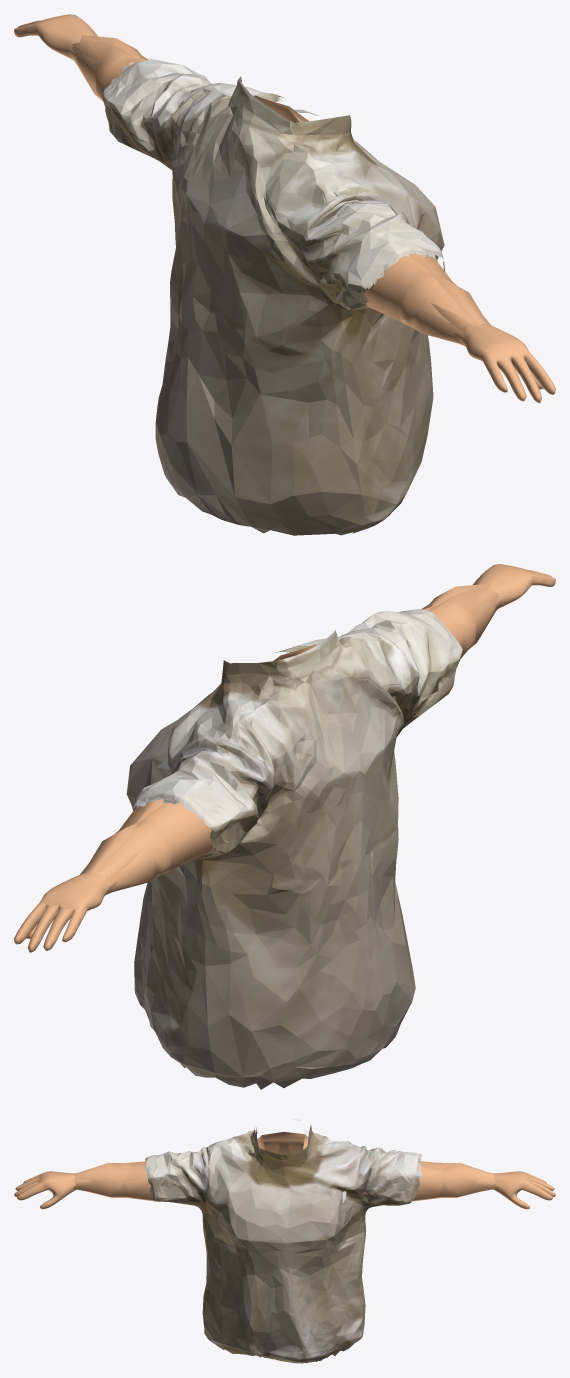
Rendered from &&whiteshirt.glb.
3 renders of one model, top to bottom at view 1: azimuth 30°, elevation 25°; view 2: azimuth 150°, elevation 25°; view 3: azimuth 270°, elevation 25°, orthographic. The views are drawn at different scales.
Visible parts, largest first — view 1: 6.Torso, 2.Torso, 5.Torso, 1.Torso, 3.Torso; view 2: 6.Torso, 2.Torso, 5.Torso, 1.Torso, 3.Torso; view 3: 6.Torso, 5.Torso, 2.Torso, 3.Torso, 1.Torso, 4.Torso.
Boxes of the visible parts, <box> form: 6.Torso: <box>14,14,547,535</box>; 2.Torso: <box>16,17,548,400</box>; 5.Torso: <box>71,41,490,533</box>; 1.Torso: <box>16,18,555,403</box>; 3.Torso: <box>43,17,555,399</box>; 6.Torso: <box>14,567,553,1089</box>; 2.Torso: <box>21,566,554,950</box>; 5.Torso: <box>80,589,499,901</box>; 1.Torso: <box>22,564,555,950</box>; 3.Torso: <box>52,564,555,897</box>; 6.Torso: <box>21,1128,555,1363</box>; 5.Torso: <box>73,1126,495,1363</box>; 2.Torso: <box>20,1119,549,1354</box>; 3.Torso: <box>16,1134,548,1209</box>; 1.Torso: <box>14,1130,517,1209</box>; 4.Torso: <box>56,1119,518,1181</box>.
Size of the model in its own units: 0.599 by 0.9531 by 2.18.
Materials: 10 (1 with a texture image).
